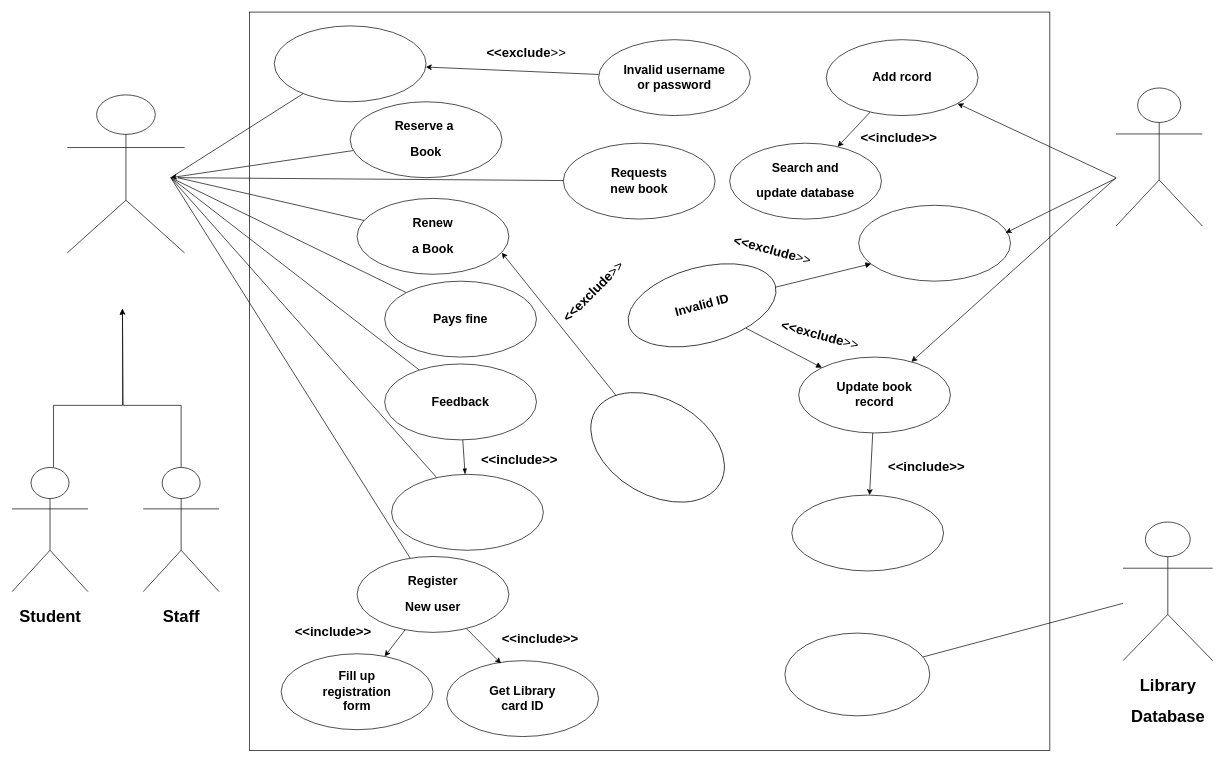
The diagram is 1225 pixels wide and 762 high, and some of its shapes have lost their labels. Here are the shapes that lost their labels. From the top down, the box of each, then its label:
(274, 25, 426, 102): Authenticate
(67, 94, 185, 253): User
(1115, 87, 1202, 226): Libraries
(858, 205, 1011, 281): Delete book record
(570, 369, 744, 525): Invlid reneva
(391, 474, 543, 550): Filling up feedback form
(791, 494, 944, 571): Update the record ID
(784, 632, 930, 716): Prepare Library database
